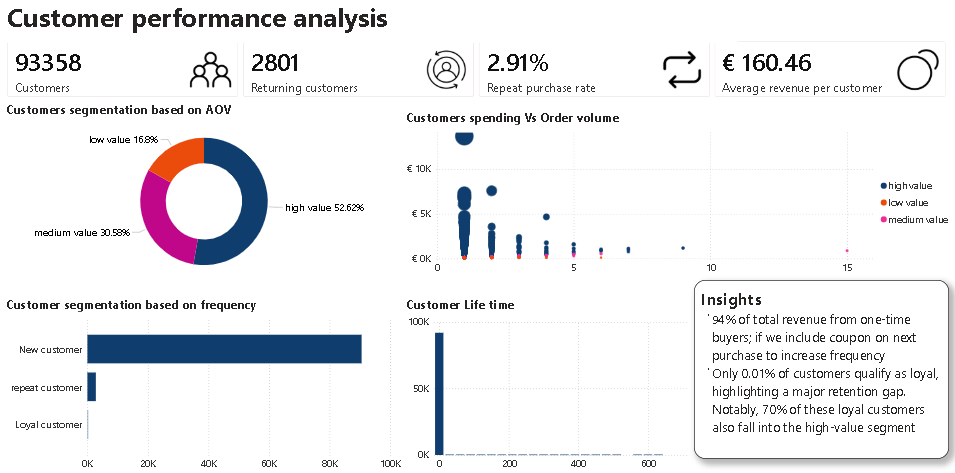

The dashboard page shown, as its layout file describes it:
{"tool":"powerbi","page":{"name":"customer performance","canvas":[1600,800],"ordinal":1},"visuals":[{"type":"cardVisual","fields":{"Data":["DimCustomers.Customers count","customer_performance_view.Repeat customers","customer_performance_view.Repeat purchase rate","customer_performance_view.ARPC"]},"box":[0,58.1,1600,127.8],"z":0},{"type":"clusteredBarChart","title":"Customer segmentation based on frequency","fields":{"Y":["CountNonNull(customer_performance_view.customer_unique_id)"],"Category":["customer_performance_view.frequency_segment"]},"box":[11.7,498.3,666.7,301.7],"z":1000},{"type":"donutChart","title":"Customers segmentation based on AOV","fields":{"Category":["customer_performance_view.aov_customer_segment","customer_performance_view.frequency_segment"],"Y":["CountNonNull(customer_performance_view.customer_unique_id)"]},"box":[11.7,173.3,666.7,310],"z":2000},{"type":"textbox","box":[1012.8,38.8,13.4,38.8],"z":3000},{"type":"textbox","box":[0,0,1233.9,77.7],"z":4000},{"type":"scatterChart","title":"Customers spending Vs Order volume","fields":{"X":["Sum(customer_performance_view.total_orders)"],"Y":["Sum(customer_performance_view.total_spent)"],"Series":["customer_performance_view.aov_customer_segment"],"Category":["customer_performance_view.customer_unique_id"],"Size":["Sum(customer_performance_view.average_order_value)"]},"box":[678.9,186,921.1,286],"z":5000},{"type":"clusteredColumnChart","title":"Customer Life time","fields":{"Y":["CountNonNull(customer_performance_view.customer_unique_id)"],"Category":["customer_performance_view.customer_life_time (bins)"]},"box":[678.3,498.3,483.3,301.7],"z":6000},{"type":"textbox","box":[1161.7,473.3,425,298.3],"z":7000}]}

Visuals, with their boxes in screenshot pixels (x1, y1, x2, y2), scaled from the page's 1600x800 canvas onto the 955x473 screenshot:
cardVisual - DimCustomers.Customers count x customer_performance_view.Repeat customers: box=[0, 34, 954, 110]
"Customer segmentation based on frequency" clusteredBarChart: box=[7, 295, 405, 472]
"Customers segmentation based on AOV" donutChart: box=[7, 102, 405, 286]
textbox: box=[605, 23, 613, 46]
textbox: box=[0, 0, 736, 46]
"Customers spending Vs Order volume" scatterChart: box=[405, 110, 954, 279]
"Customer Life time" clusteredColumnChart: box=[405, 295, 693, 472]
textbox: box=[693, 280, 947, 456]
